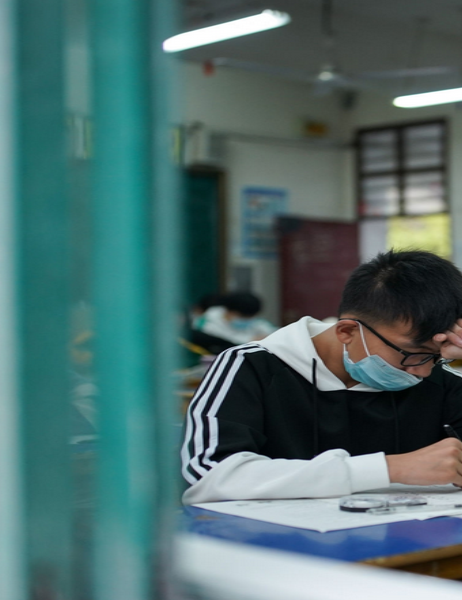mask_weared_incorrect: (345, 254, 462, 391)
